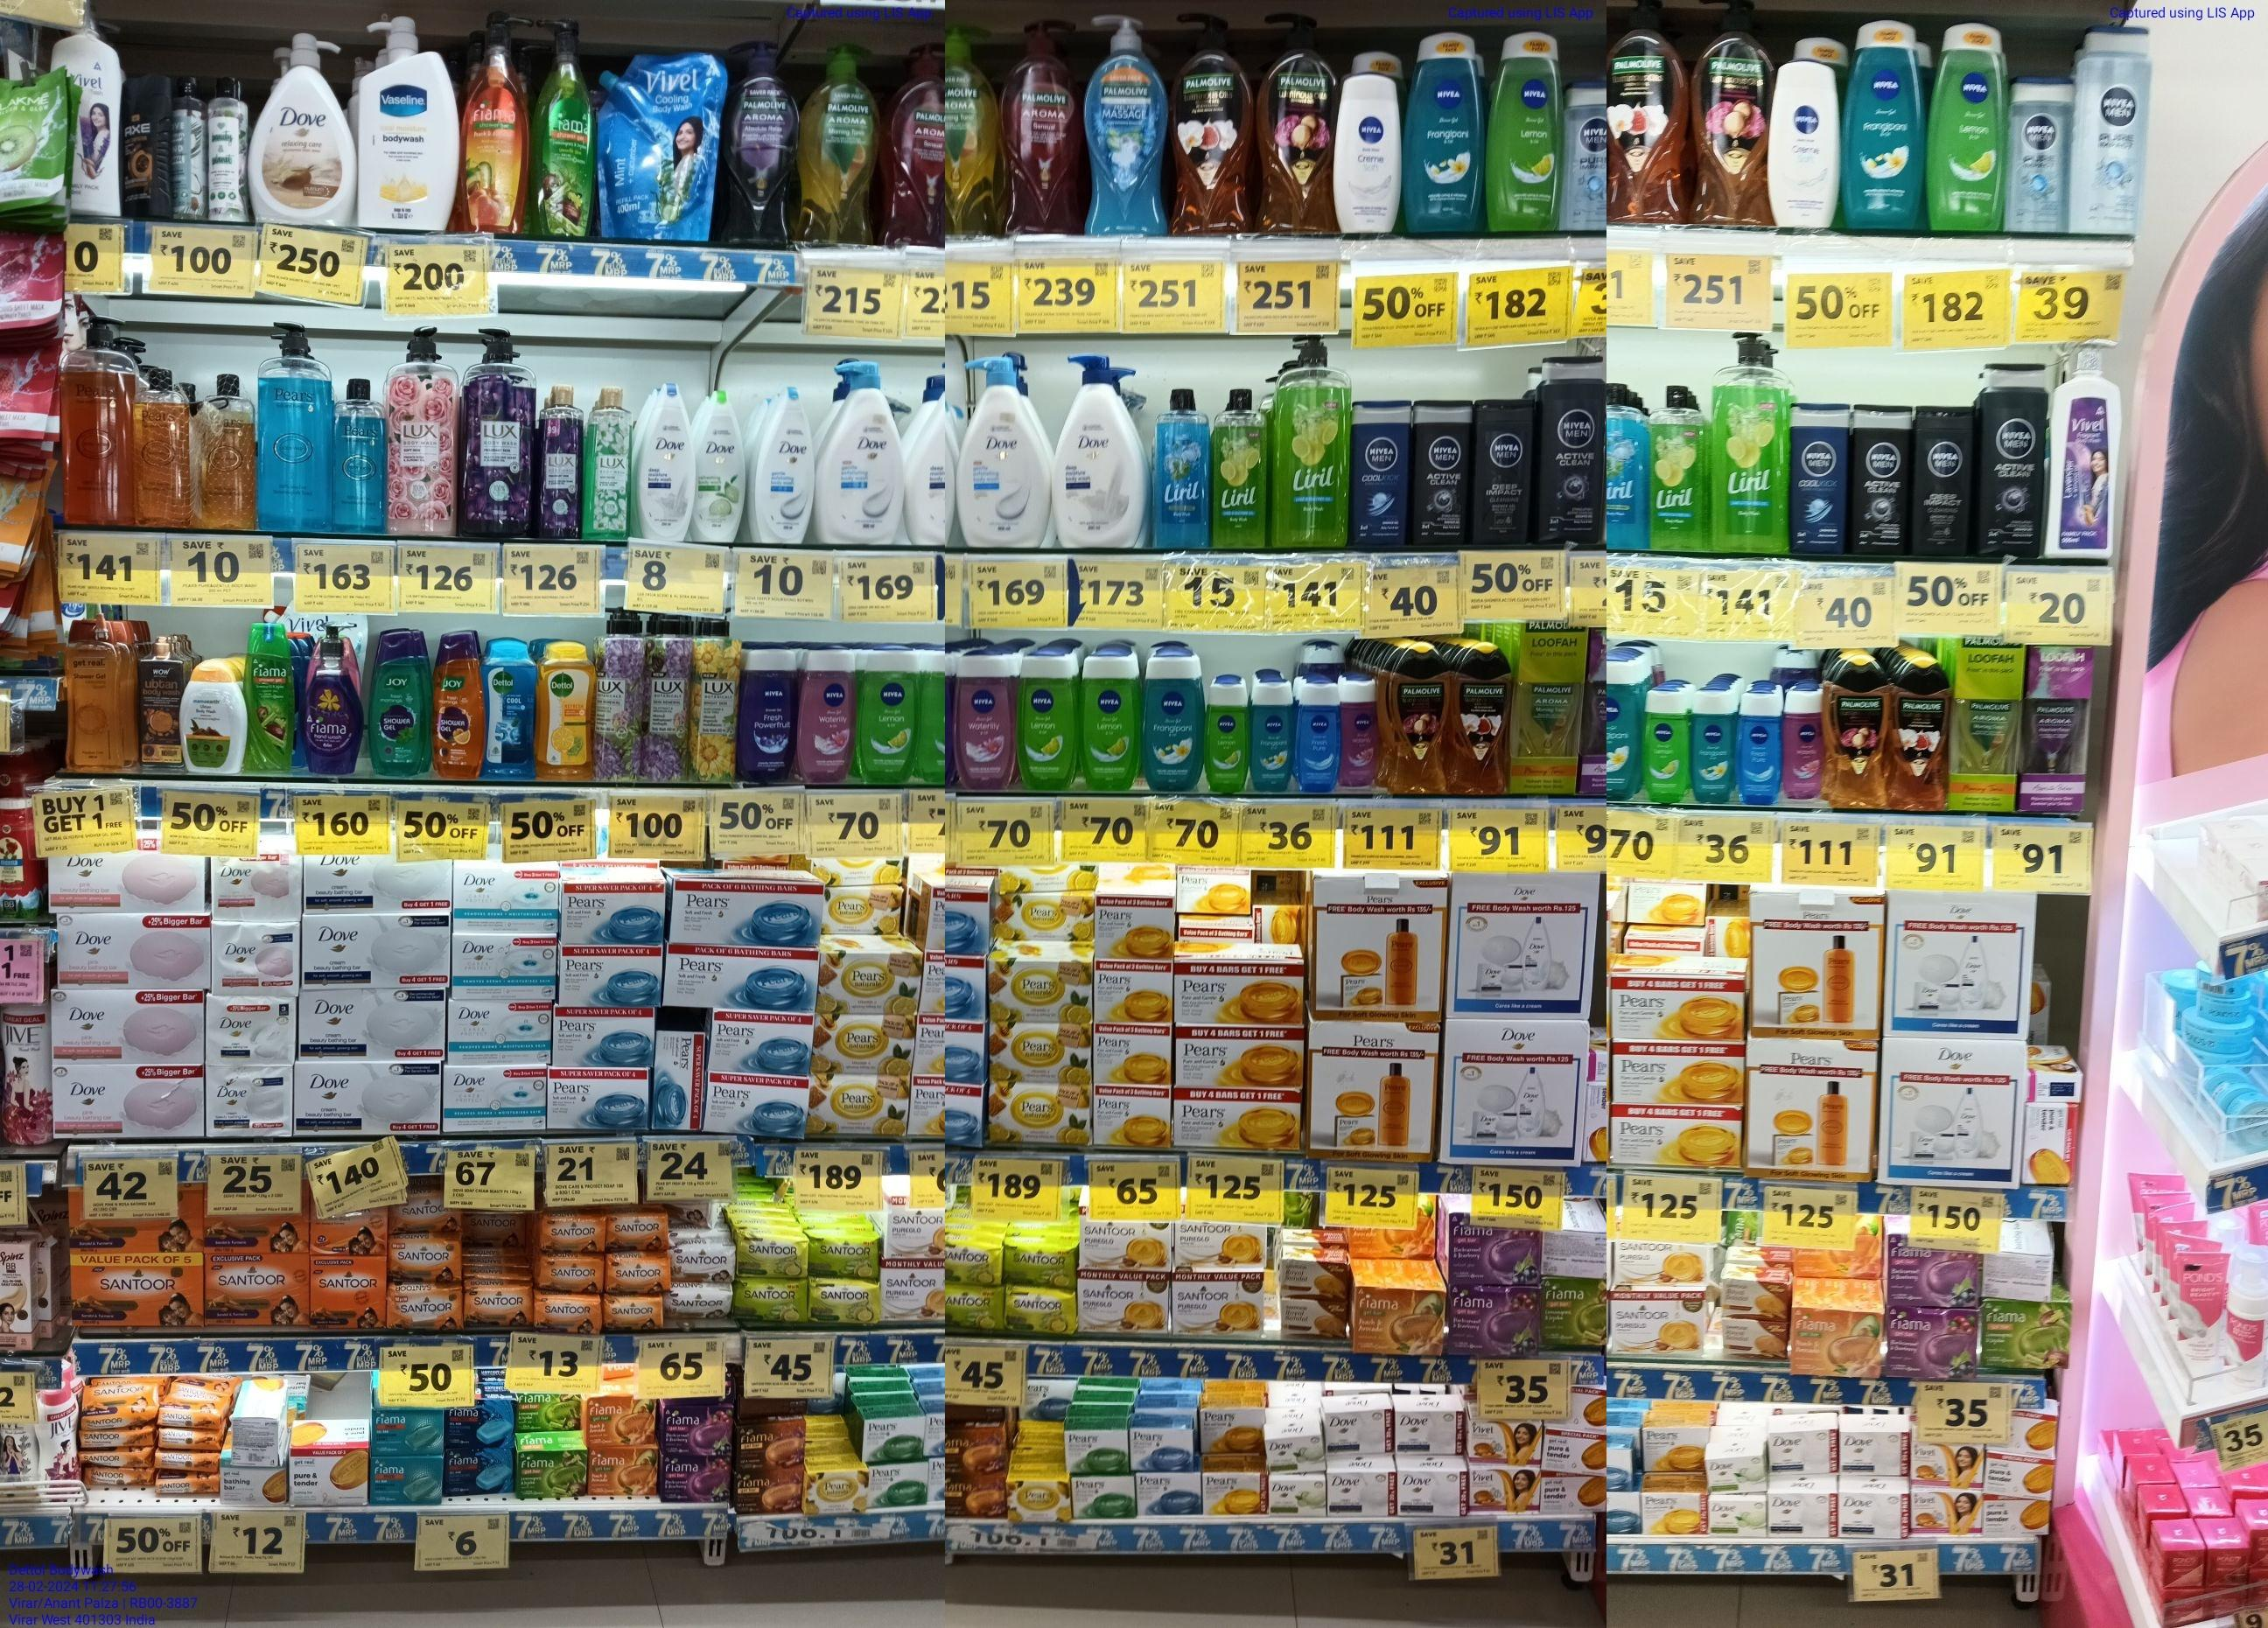Dettol_Bodywash_Cool: (484, 641, 535, 781)
Dettol_Bodywash_Refresh: (539, 639, 593, 783)
Dove_Deep_Moisture_Body_Wash_250ML: (639, 384, 692, 546)
Dove_Gentle_Exfoliating_Body_Wash_250ML: (759, 387, 817, 547)
Dove_Refreshing_Body_Wash_250ML: (699, 389, 745, 544)
Get_Real_Shower_Gel_Moisturising_Glycerin_300ML: (65, 612, 118, 774)
Joy_Shower_Gel_Mandarin_and_Lemongrass_250ML: (431, 630, 482, 781)
Joy_Shower_Gel_Mint_and_Eucalyptus_250ML: (370, 632, 424, 780)
Liril_Cooling_Mint_Body_Wash_250ML: (1157, 385, 1210, 553), (1606, 380, 1646, 556)
Liril_Lime_and_Tea_Tree_Oil_Body_Wash_250ML: (1650, 384, 1710, 554), (1215, 385, 1266, 551)
Lux_Black_Orchid_Scent_and_Juniper_Oil_Body_Wash_245ML: (535, 382, 583, 542)
Lux_Body_Wash_Skin_Detox_Freesia_Scent_and_Alove_Vera_245ML: (588, 387, 636, 544)
Nivea_Creme_Soft_Body_Wash_250ML: (1777, 56, 1844, 231), (1335, 74, 1402, 234)
Nivea_Shower_Gel_Frangipani_and_Oil_250ML: (1851, 21, 1925, 236), (1412, 35, 1486, 236), (1139, 646, 1203, 790)
Nivea_Shower_Gel_Fresh_Powerfruit_250ML: (741, 642, 796, 788)
Nivea_Shower_Gel_Lemon_and_Oil_250ML: (1939, 23, 2014, 229), (1493, 32, 1565, 232), (1020, 651, 1078, 794), (1081, 651, 1139, 792), (863, 649, 919, 787)
Nivea_Shower_Gel_Waterlily_and_Oil_250ML: (801, 642, 856, 788)
Palmolive_Luminous_Oils_Invigorating_Macadamia_Oil_With_Peony_250ML: (1255, 40, 1335, 232), (1696, 32, 1770, 231), (1828, 660, 1889, 813), (1393, 637, 1447, 796)
Palmolive_Luminous_Oils_With_White_Orchid_Shower_Gel_250ML: (1606, 23, 1687, 227), (1173, 42, 1250, 243), (1895, 656, 1955, 813), (1456, 642, 1513, 799)
